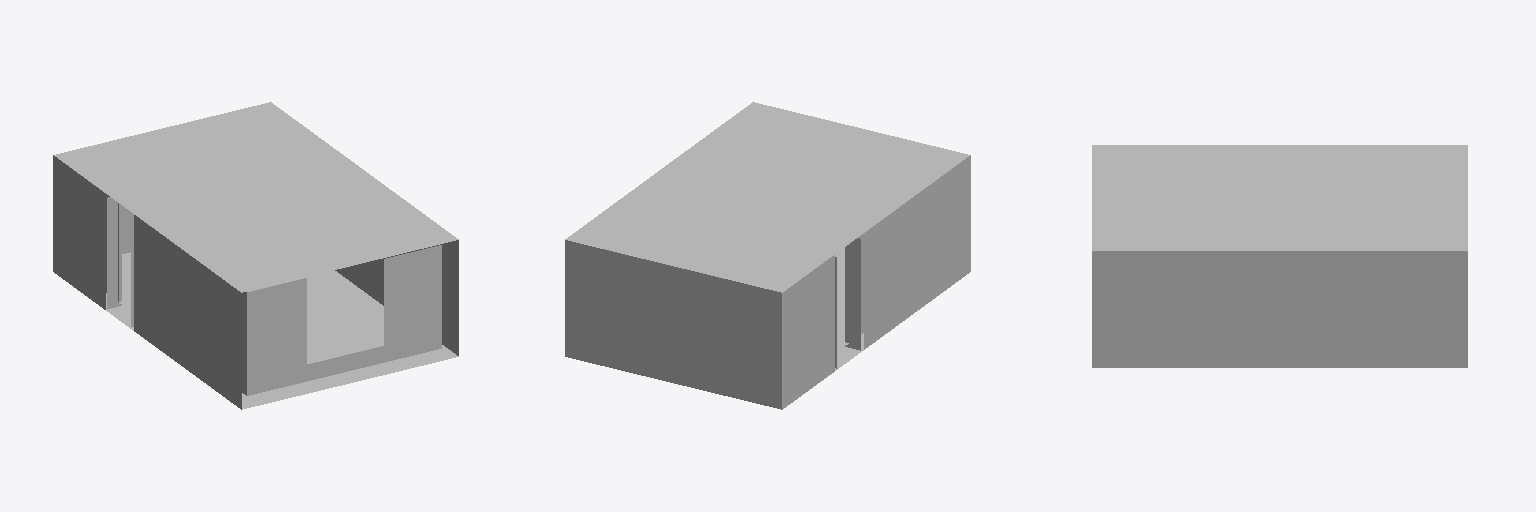
Rendered from space_module1_cd.obj.
3 renders of one model, left to right at view 1: azimuth 30°, elevation 25°; view 2: azimuth 150°, elevation 25°; view 3: azimuth 270°, elevation 25°, orthographic.
Visible parts, largest first — view 1: mesh02, mesh03, mesh01; view 2: mesh02, mesh04, mesh03; view 3: mesh02.
Part boxes in pixels (x1,y1,x2,y2): mesh02: (53,102,458,409); mesh03: (106,194,441,395); mesh01: (107,197,121,308); mesh02: (565,102,970,409); mesh04: (845,238,860,350); mesh03: (835,234,863,351); mesh02: (1092,145,1467,367).
Bounding box in the file's own units: 207 × 106 × 310.